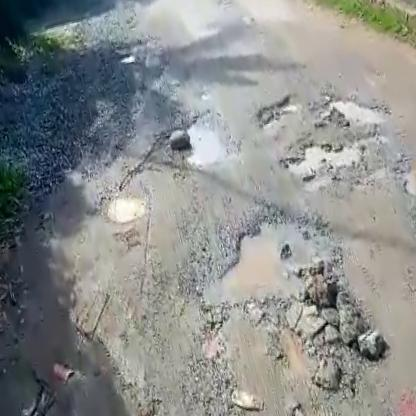pothole: (183, 194, 365, 329), (275, 125, 364, 185), (321, 85, 389, 137), (179, 110, 230, 168), (98, 182, 153, 228), (249, 92, 302, 133)
